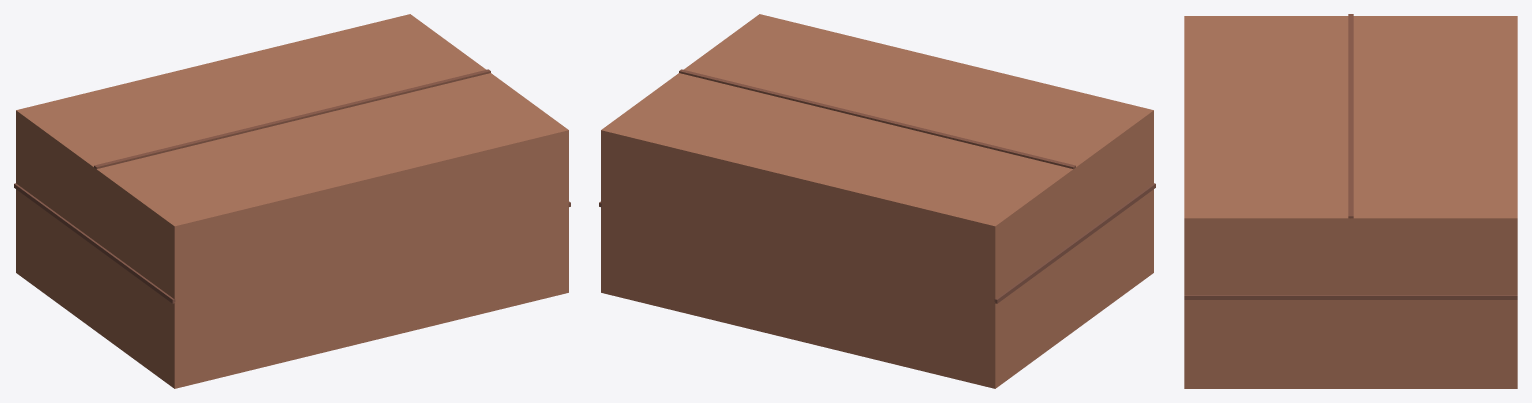
The model's file is terrain-ruin-step-b77b60.glb.
3 renders of one model, left to right at view 1: azimuth 30°, elevation 25°; view 2: azimuth 150°, elevation 25°; view 3: azimuth 270°, elevation 25°, orthographic. The views are drawn at different scales.
Parts seen in each view (by area): view 1: terrain-ruin-step-b77b60; view 2: terrain-ruin-step-b77b60; view 3: terrain-ruin-step-b77b60.
Part boxes in pixels (<box>): terrain-ruin-step-b77b60: <box>14,14,570,388</box>; terrain-ruin-step-b77b60: <box>599,14,1155,388</box>; terrain-ruin-step-b77b60: <box>1184,14,1517,388</box>.
Bounding box in the file's own units: 1.67 × 0.6575 × 1.15.
